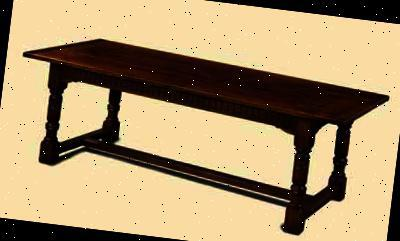Mesa: (3, 27, 395, 240)
